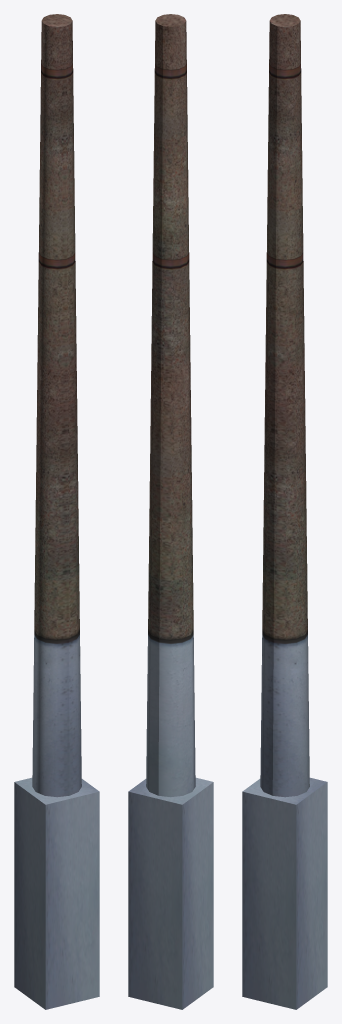
The model's file is opors_stolb.gltf.
3 views of the same model, side by side, from view 1: azimuth 30°, elevation 25°; view 2: azimuth 150°, elevation 25°; view 3: azimuth 330°, elevation 25° (orthographic).
Size of the model in its own units: 0.67 by 11.49 by 0.67.
1 material, 1 textured.
